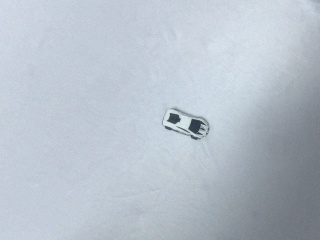toy_car: (161, 107, 209, 140)
